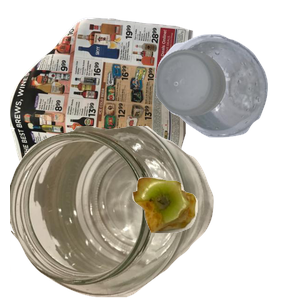glass: (10, 126, 216, 300)
paper: (10, 15, 196, 195)
plastic: (153, 31, 300, 161)
trash: (130, 175, 300, 300)
